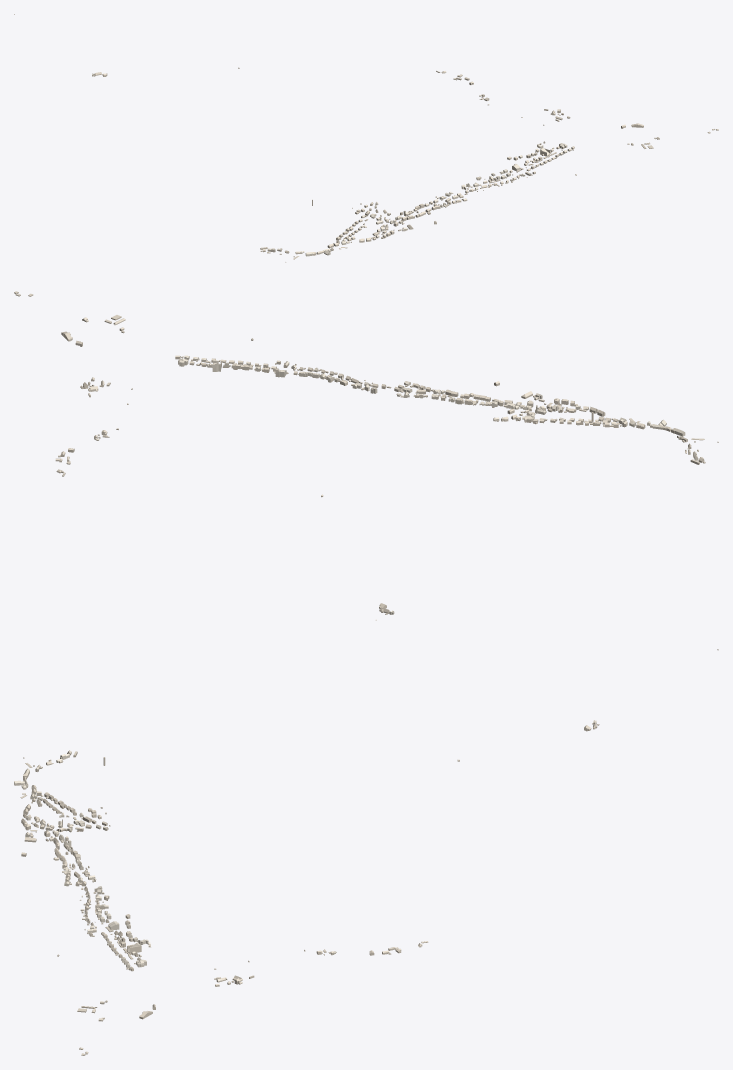
3 renders of one model, top to bottom at view 1: azimuth 30°, elevation 25°; view 2: azimuth 150°, elevation 25°; view 3: azimuth 270°, elevation 25°, orthographic. The views are drawn at different scales.
Bounding box in the file's own units: 2299 × 321 × 2141.
